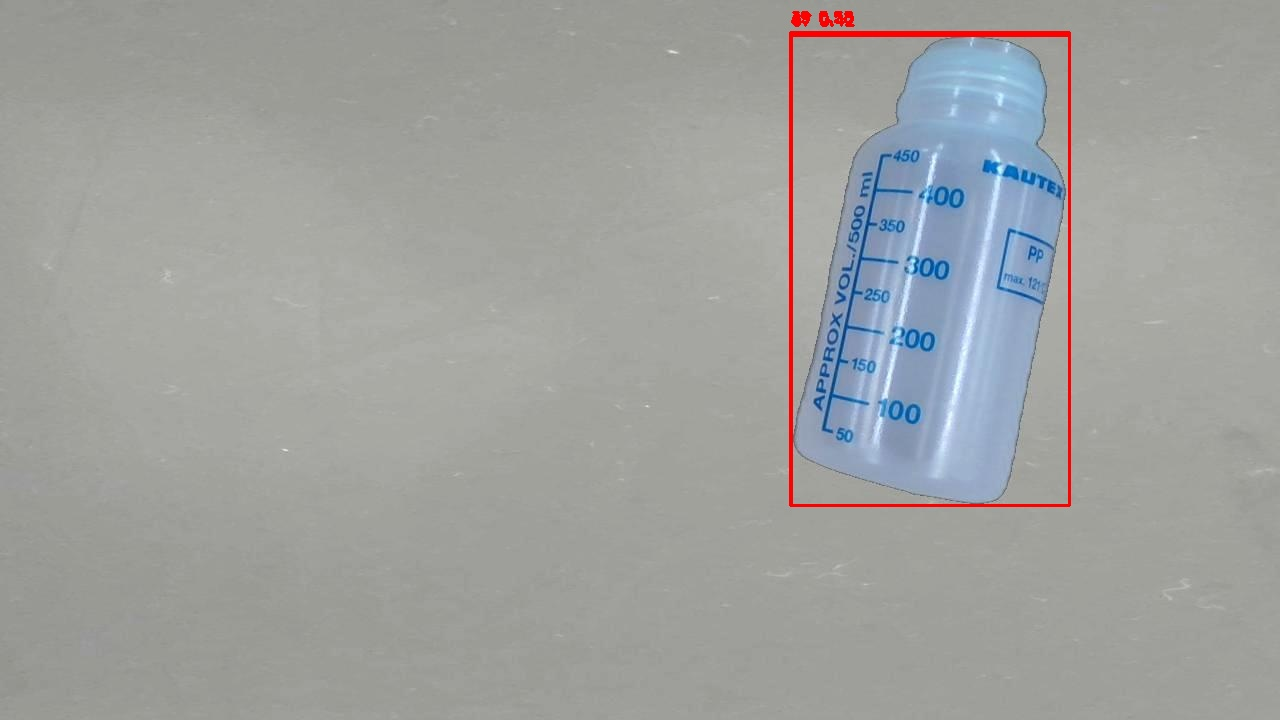cup: (790, 32, 1069, 505), (791, 35, 1069, 505)
